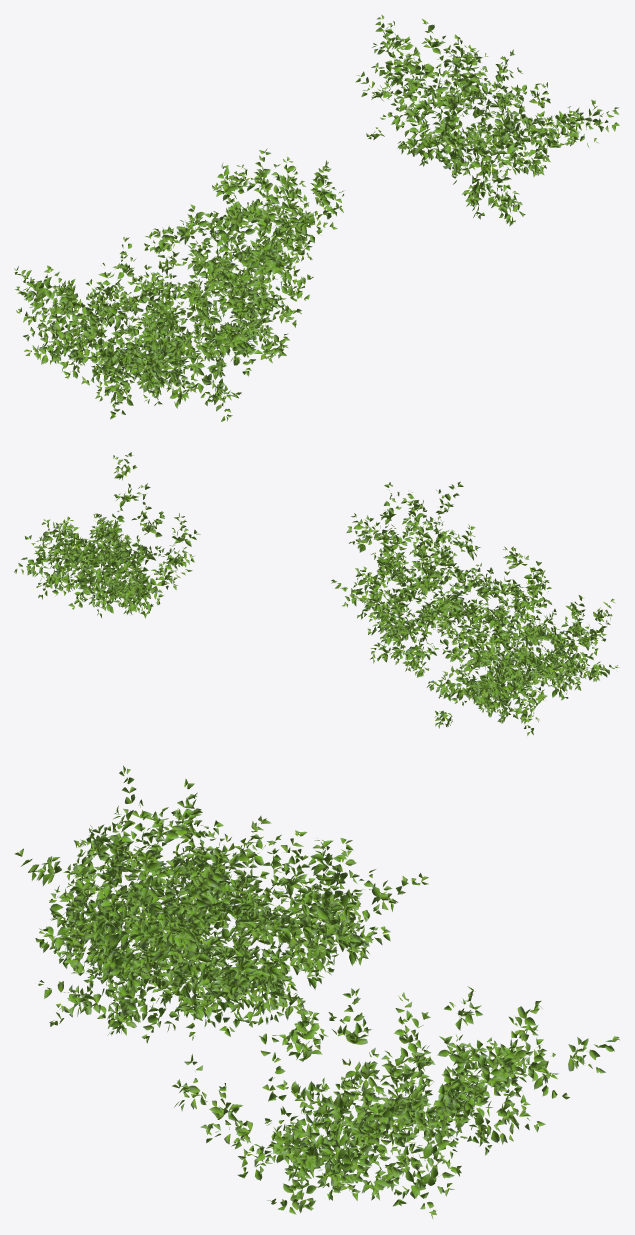
The model's file is tree_d.glb.
3 views of the same model, one above another, from view 1: azimuth 30°, elevation 25°; view 2: azimuth 150°, elevation 25°; view 3: azimuth 270°, elevation 25° (orthographic). The views are drawn at different scales.
Parts seen in each view (by area): view 1: Object_24; view 2: Object_24; view 3: Object_24.
Boxes of the visible parts, x1,y1,x2,y2 form: Object_24: (14, 14, 619, 421); Object_24: (14, 452, 619, 735); Object_24: (14, 765, 620, 1219).
Size of the model in its own units: 5.94 by 2.22 by 3.63.
Materials: 1 (1 with a texture image).
